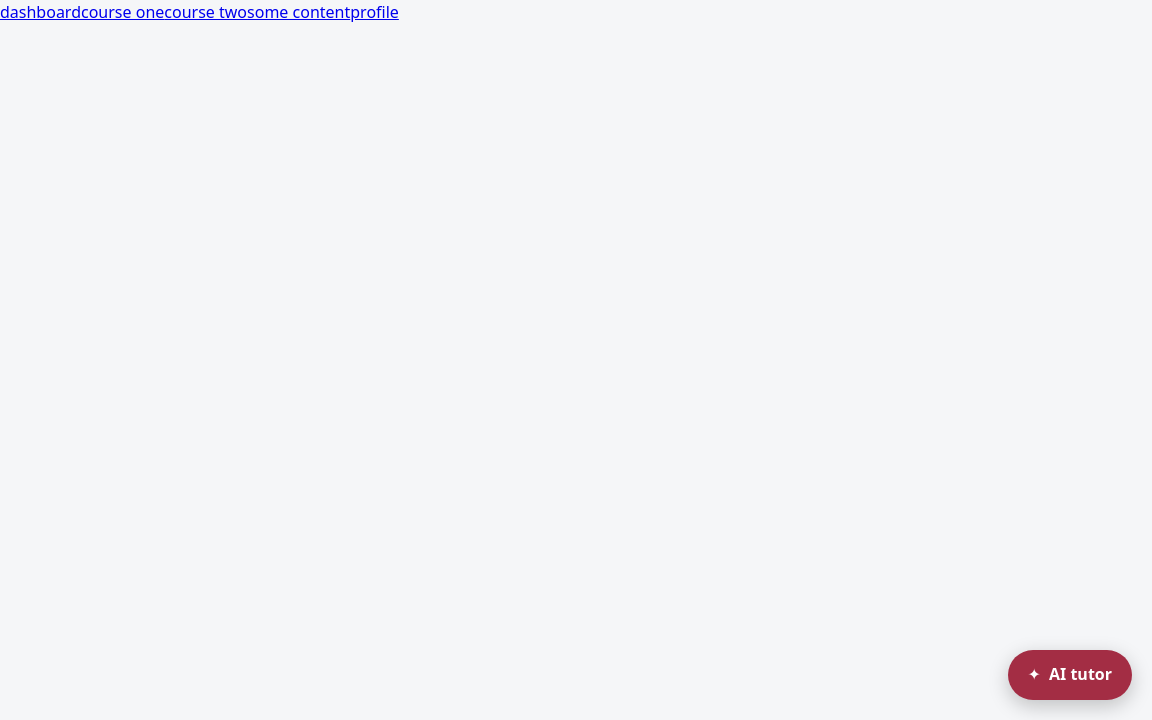
it: TutorWidget › persistence › clears the conversation with "New conversation"
This screenshot has width=1152, height=720.
Click the button "✦ AI tutor" at (1070, 675), box 1008,650 -> 1132,700
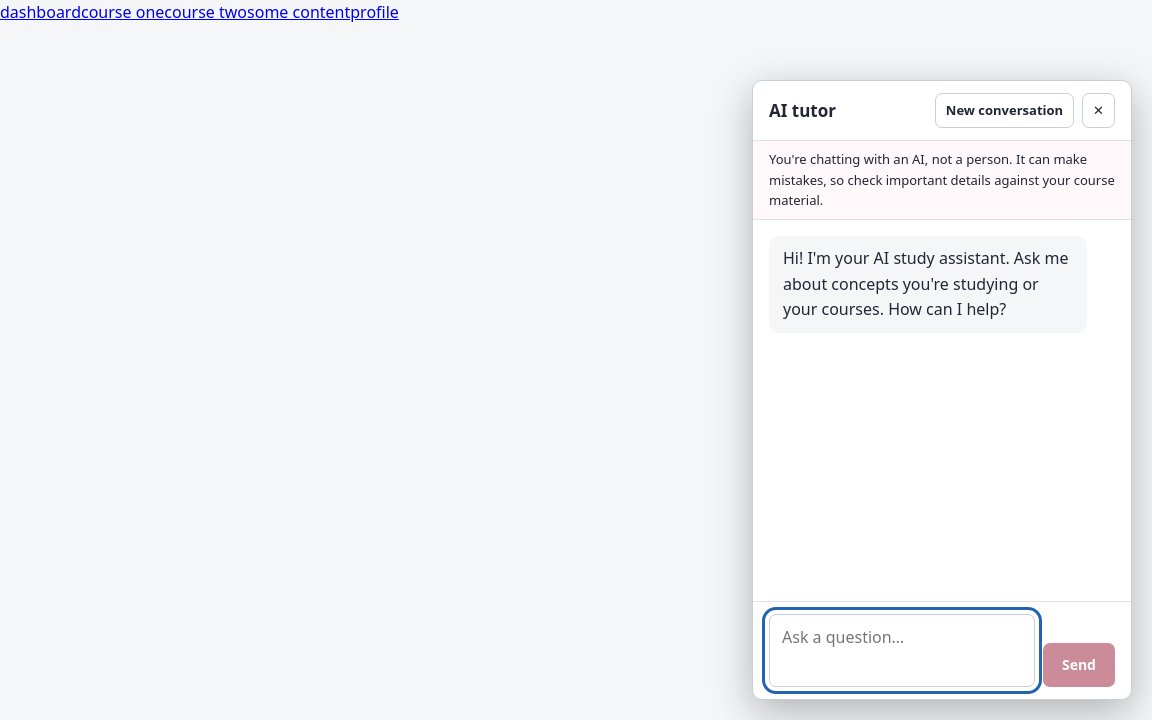
Type "First question" into the text box named "Message to the AI tutor" at (902, 650), box 769,614 -> 1035,687
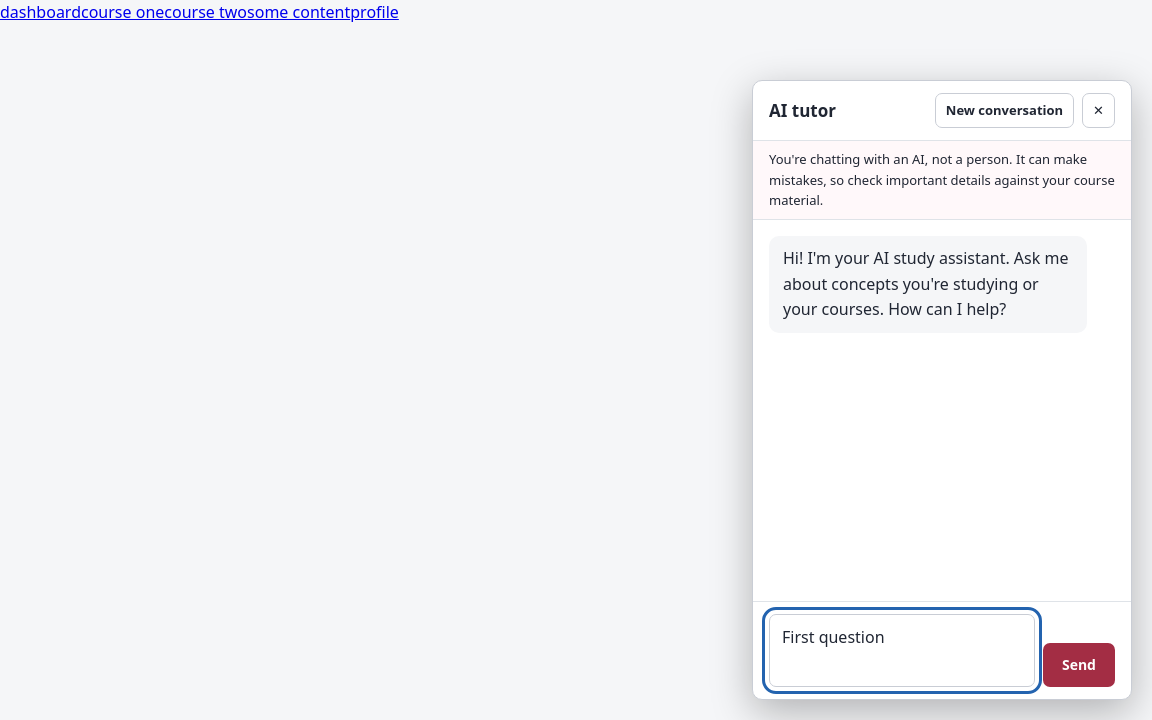
Click the button "Send" at (1079, 665), box 1043,643 -> 1115,687
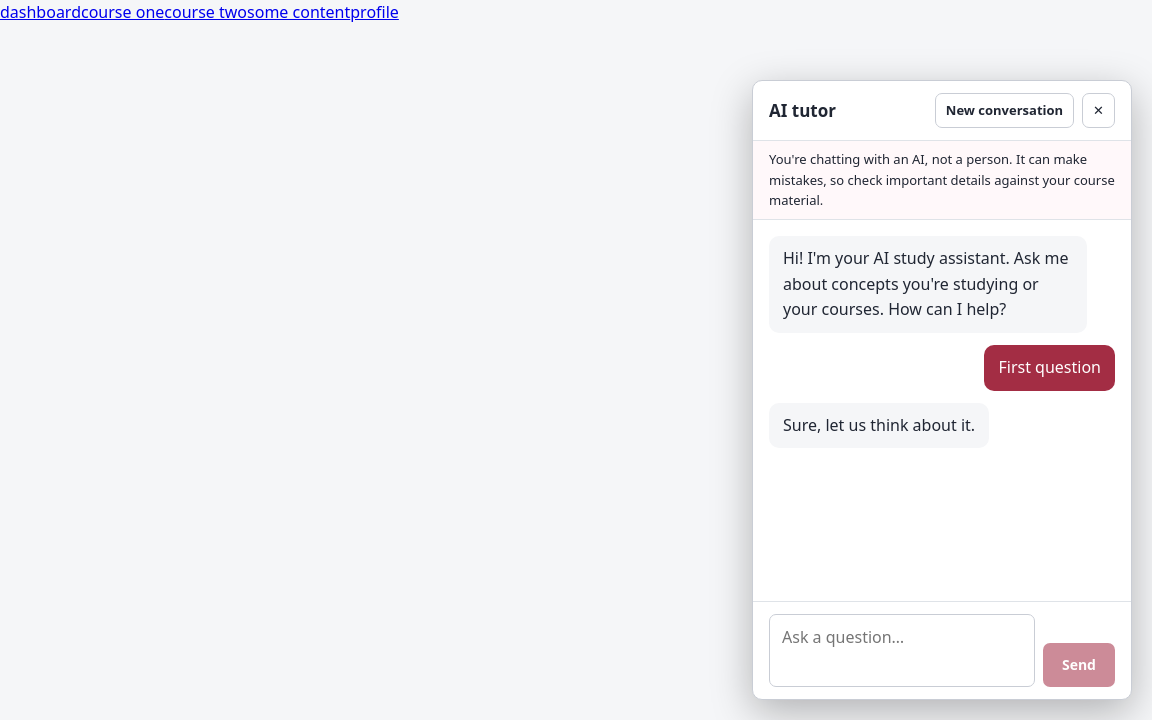
Check: the text "Sure, let us think about it." is shown, box 783,413 -> 975,438
Click the button "New conversation" at (1004, 110), box 935,93 -> 1074,128
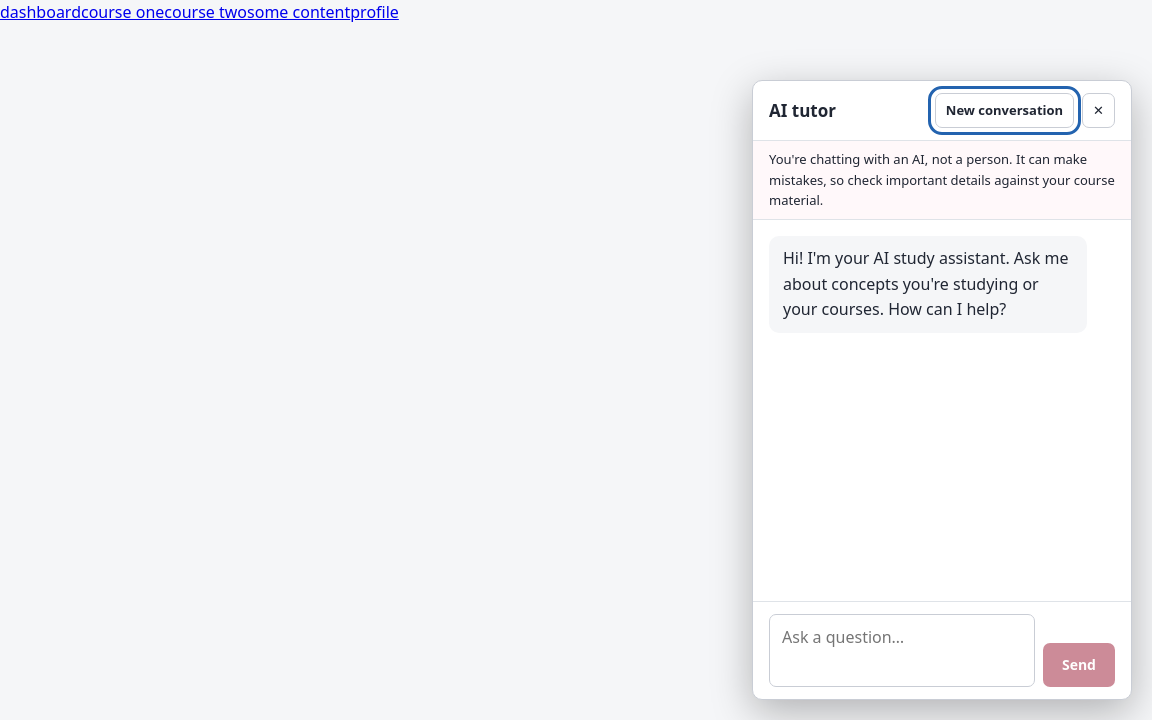
Check: the text "study assistant" is shown, box 783,247 -> 1073,320
Check: the text "First question" is gone
Check: the text "Sure, let us think about it." is gone
